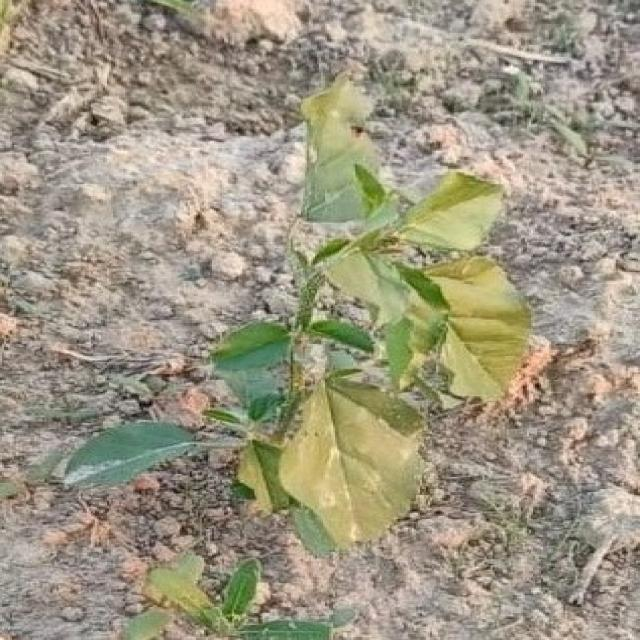weed: (30, 75, 533, 556), (63, 76, 533, 553)
